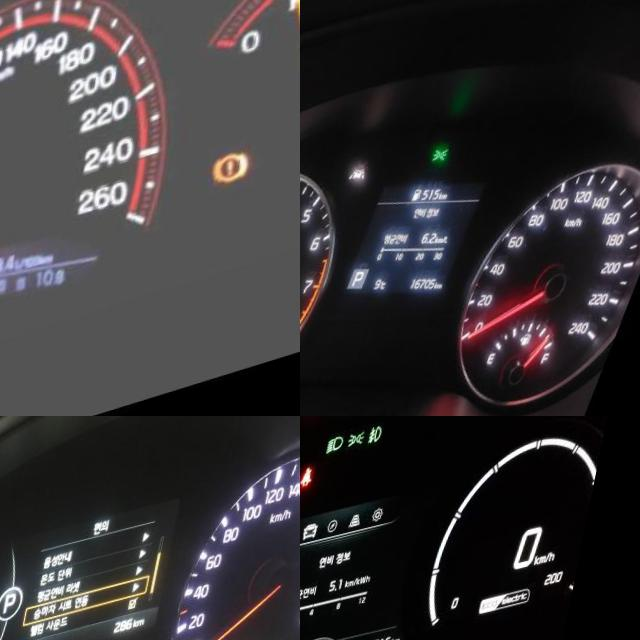FrontFogLight: (374, 443, 390, 465)
LaneCenteringOff: (357, 178, 379, 198)
Low beam: (332, 452, 352, 472)
SideLamp: (441, 163, 460, 182), (354, 447, 373, 466)
